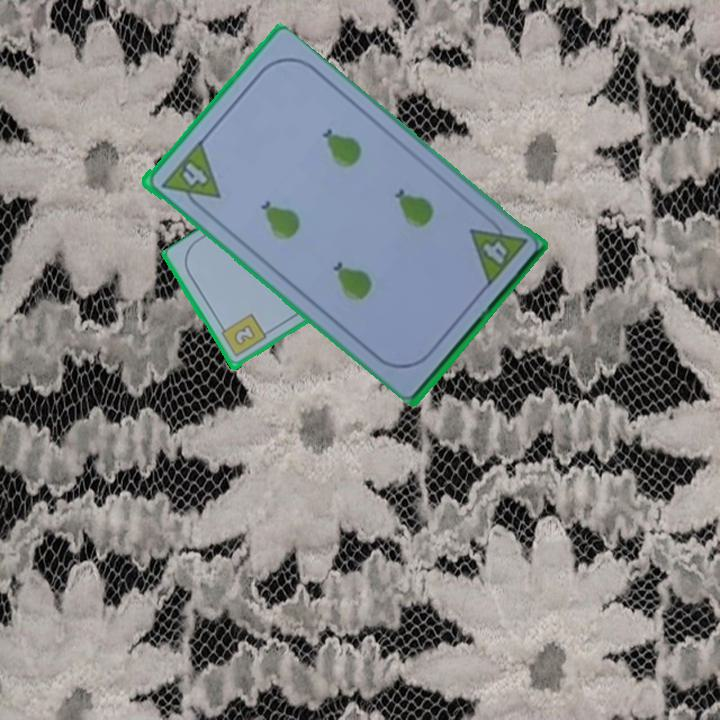2b: (216, 311, 269, 360)
4p: (156, 138, 223, 216), (465, 209, 530, 289)
